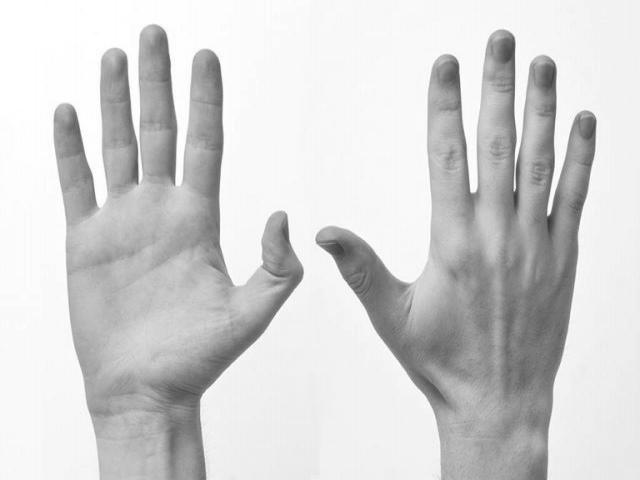not-gloved: (314, 28, 598, 409), (52, 23, 306, 417)
